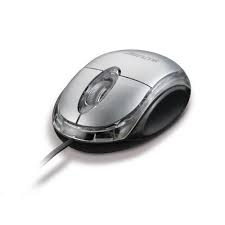mouse: (53, 42, 196, 165)
